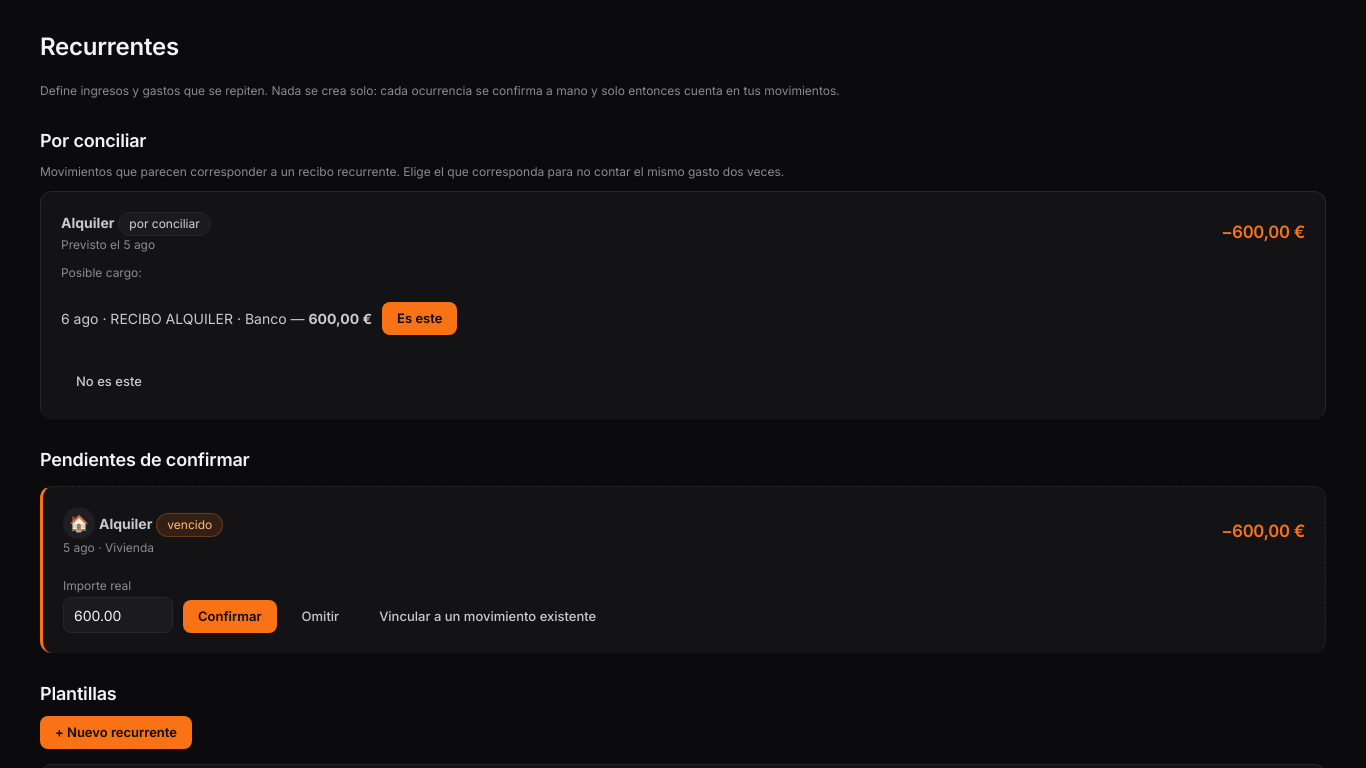
RecurringPage › conciliación (spec 049 H3) › muestra la sección por conciliar y recarga todo tras conciliar
The width and height of the screenshot is (1366, 768).
Click the button with aria-label "Conciliar Alquiler".
click(420, 318)  # box [382,302,457,335]
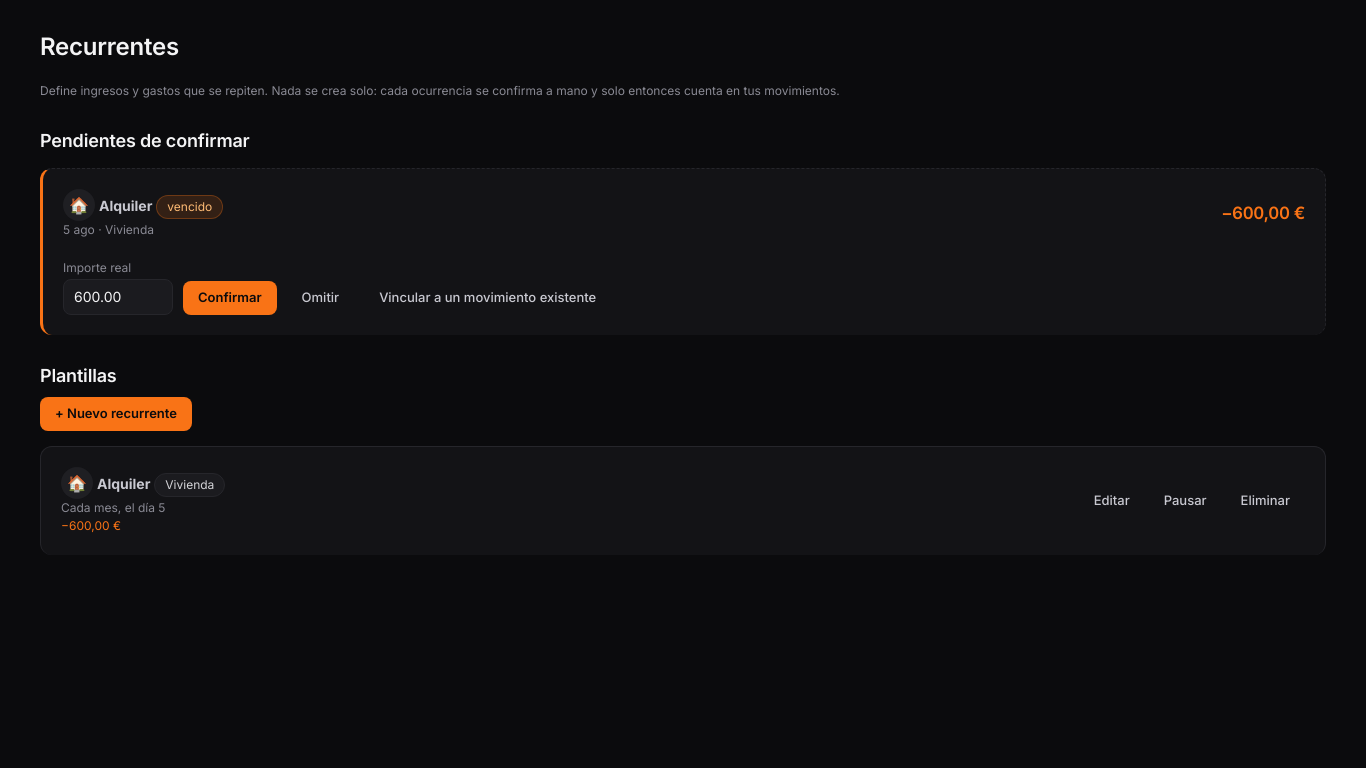
Expected: the text "Cada mes, el día 5" is shown, [61,500,165,515]
Now the heading "Por conciliar" is gone
